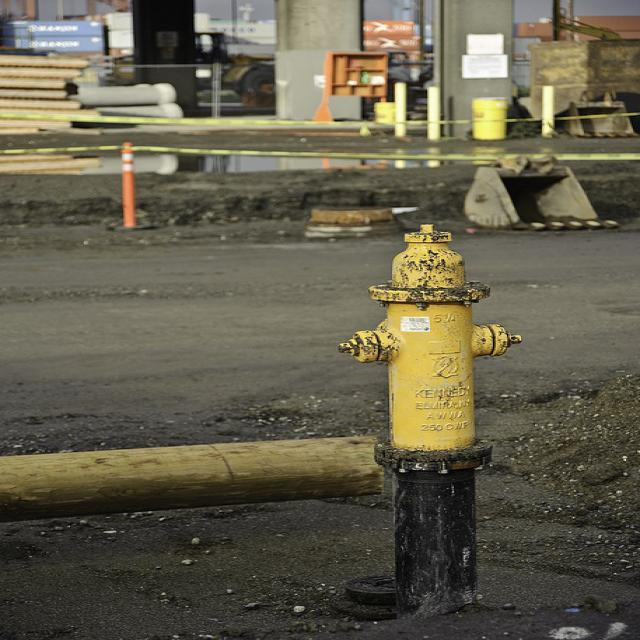fire_hydrant: (333, 226, 522, 621)
